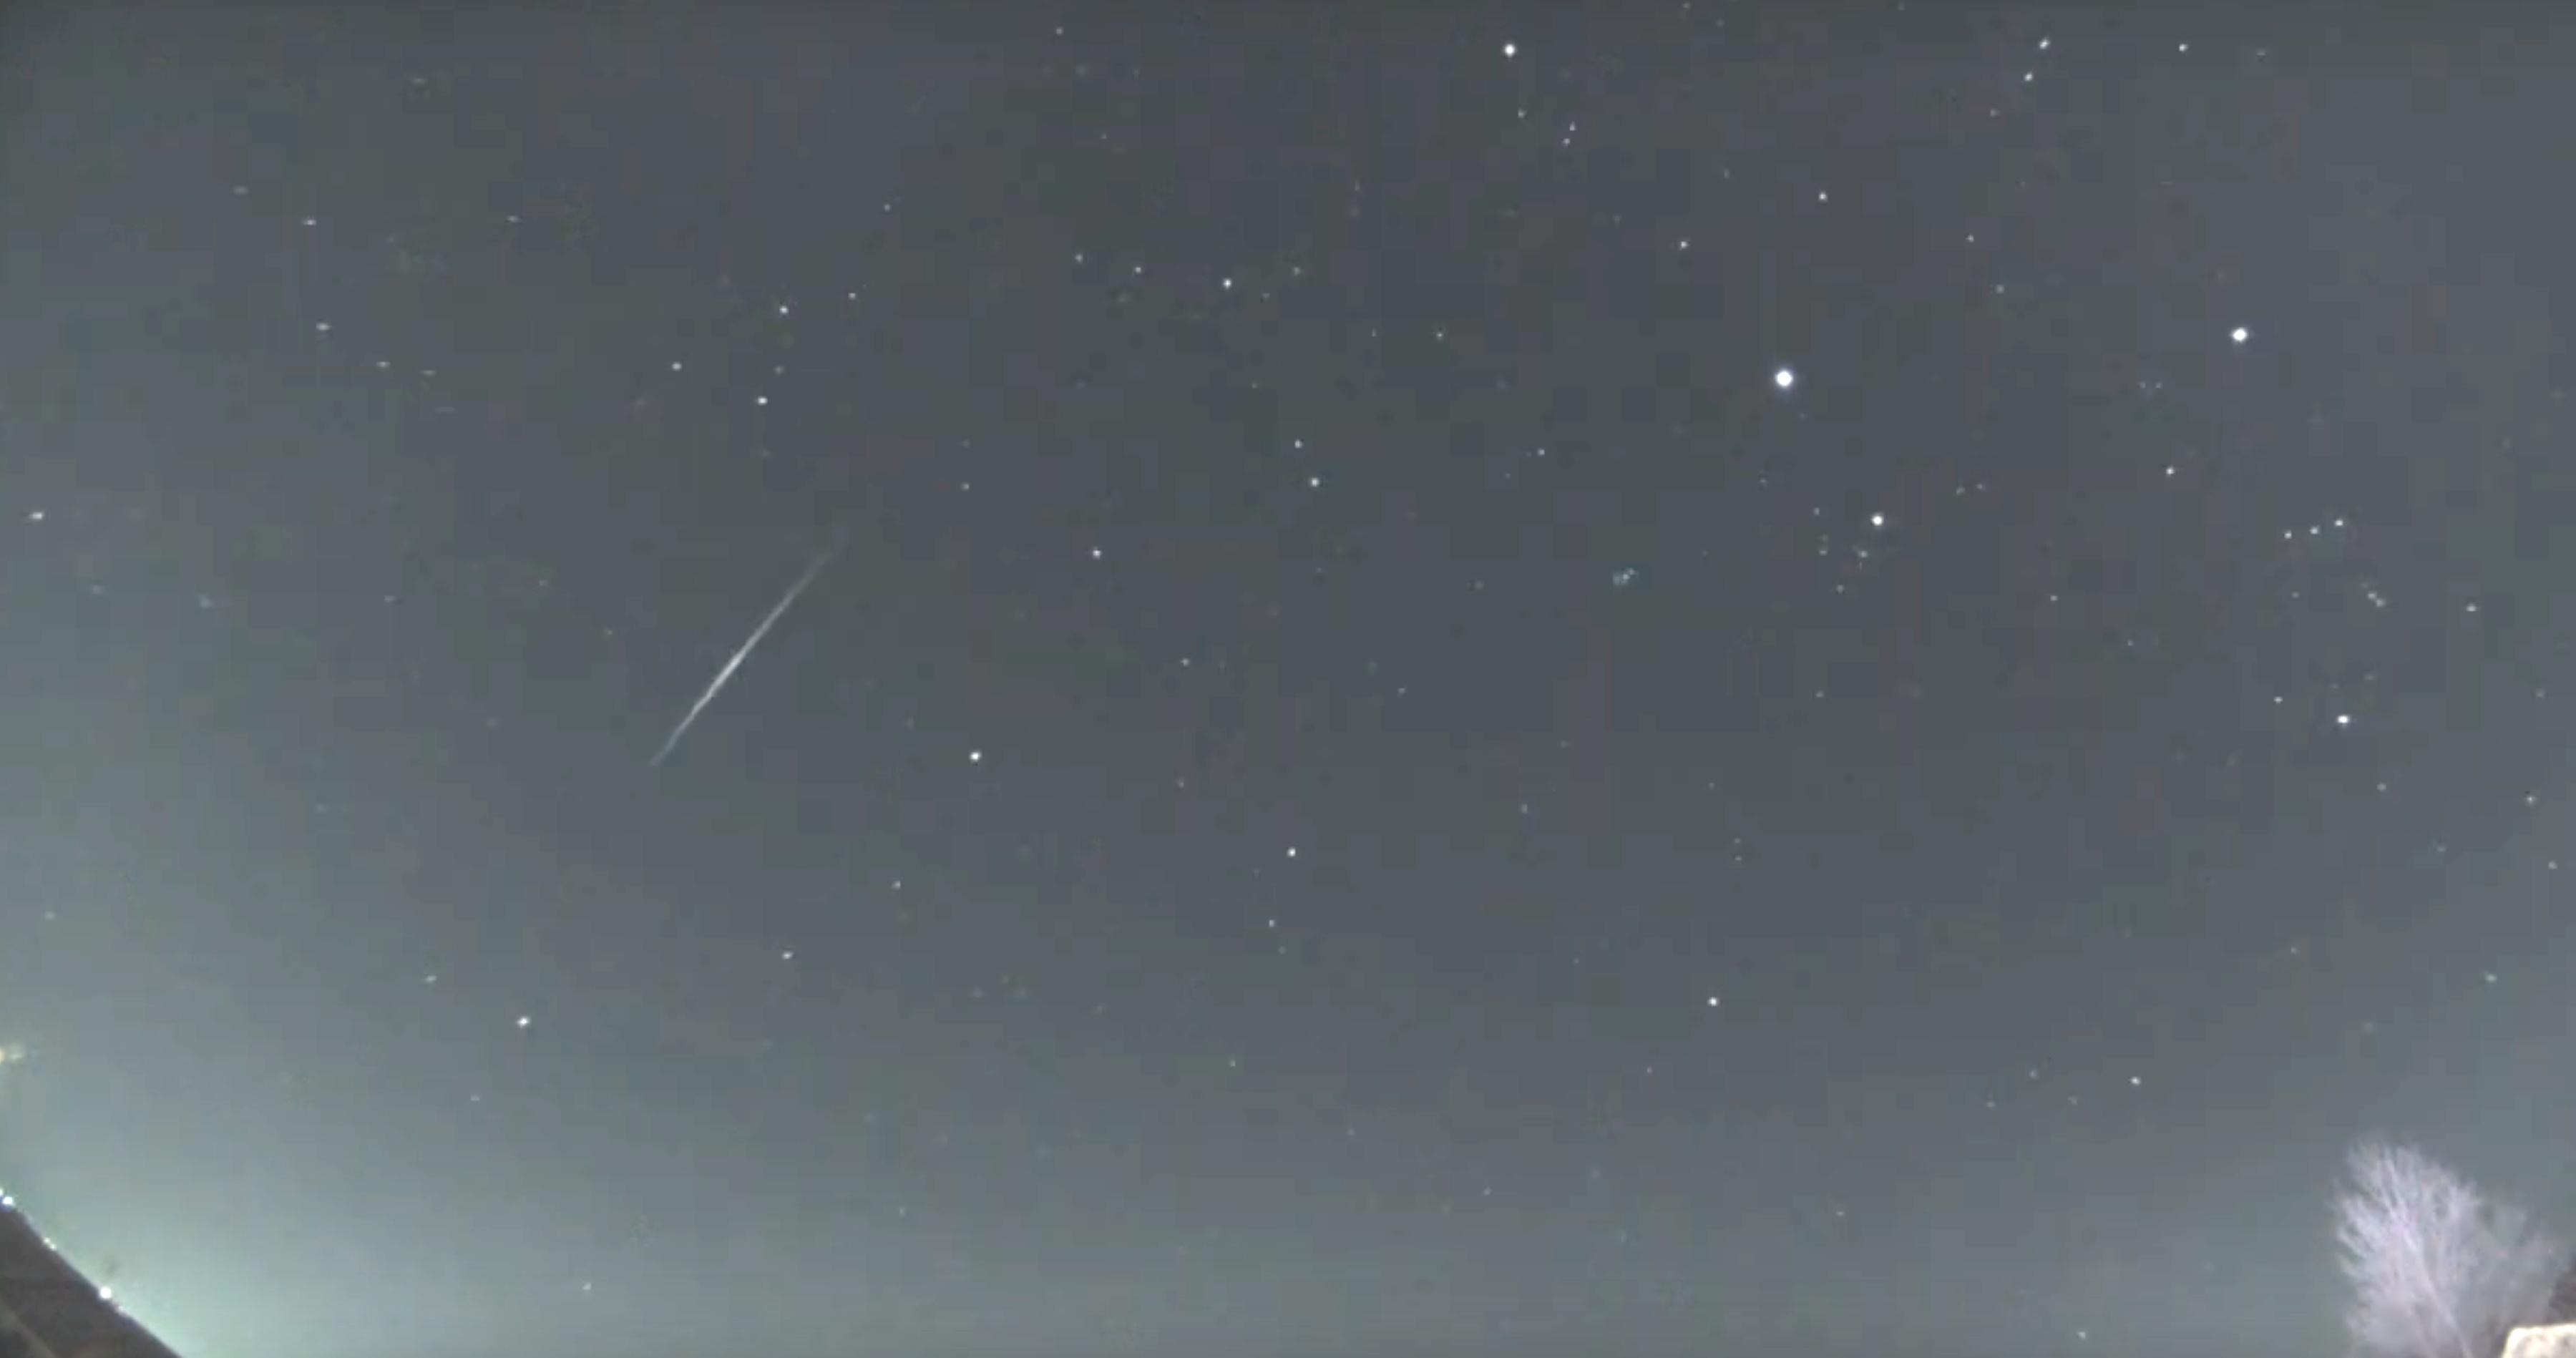meteorite: (615, 484, 893, 806)
